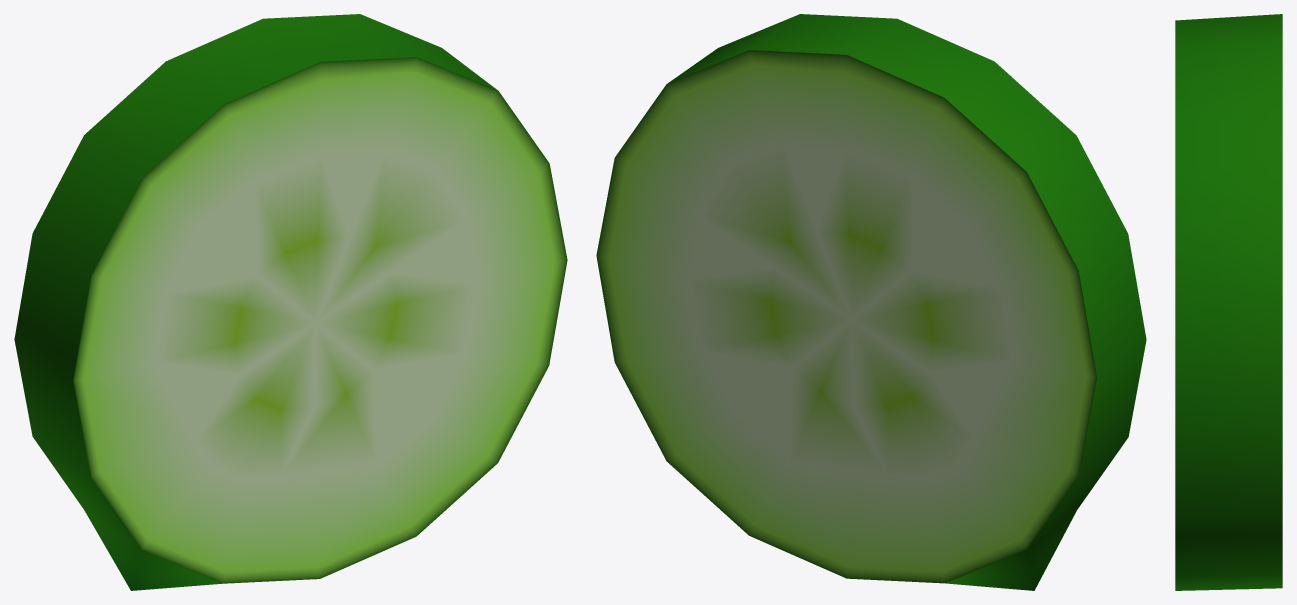
File: Cucumber_Slice_09.fbx
The picture shows the model from 3 angles, left to right: view 1: azimuth 30°, elevation 25°; view 2: azimuth 150°, elevation 25°; view 3: azimuth 270°, elevation 25°; orthographic projection.
Visible parts, largest first — view 1: Cucumber_Slice_09; view 2: Cucumber_Slice_09; view 3: Cucumber_Slice_09.
Part boxes in pixels (x1,y1,x2,y2): Cucumber_Slice_09: [14, 14, 567, 590]; Cucumber_Slice_09: [596, 14, 1146, 590]; Cucumber_Slice_09: [1175, 14, 1282, 590].
Bounding box in the file's own units: 4.6 × 4.6 × 0.8617.
